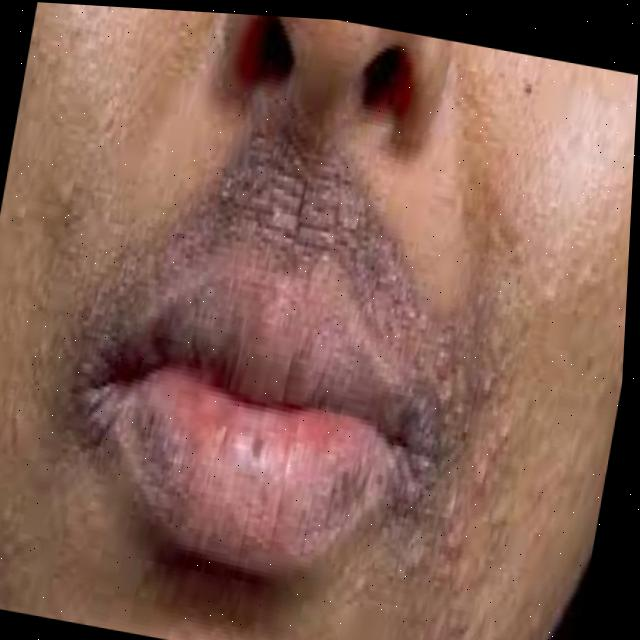Eczema: (84, 107, 475, 422), (355, 288, 607, 640)
